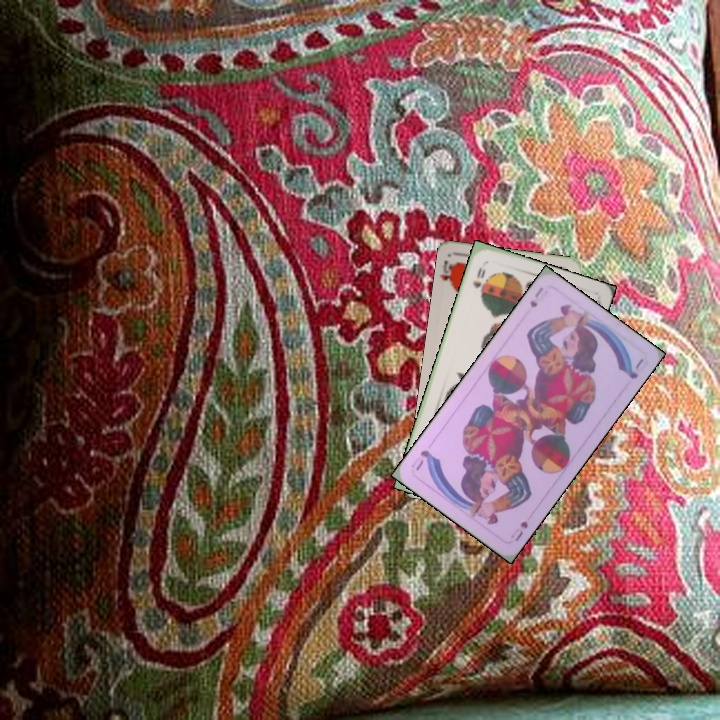HO: (437, 256, 459, 292)
SO: (469, 263, 488, 291)
SU: (506, 517, 531, 544), (526, 283, 546, 310)
